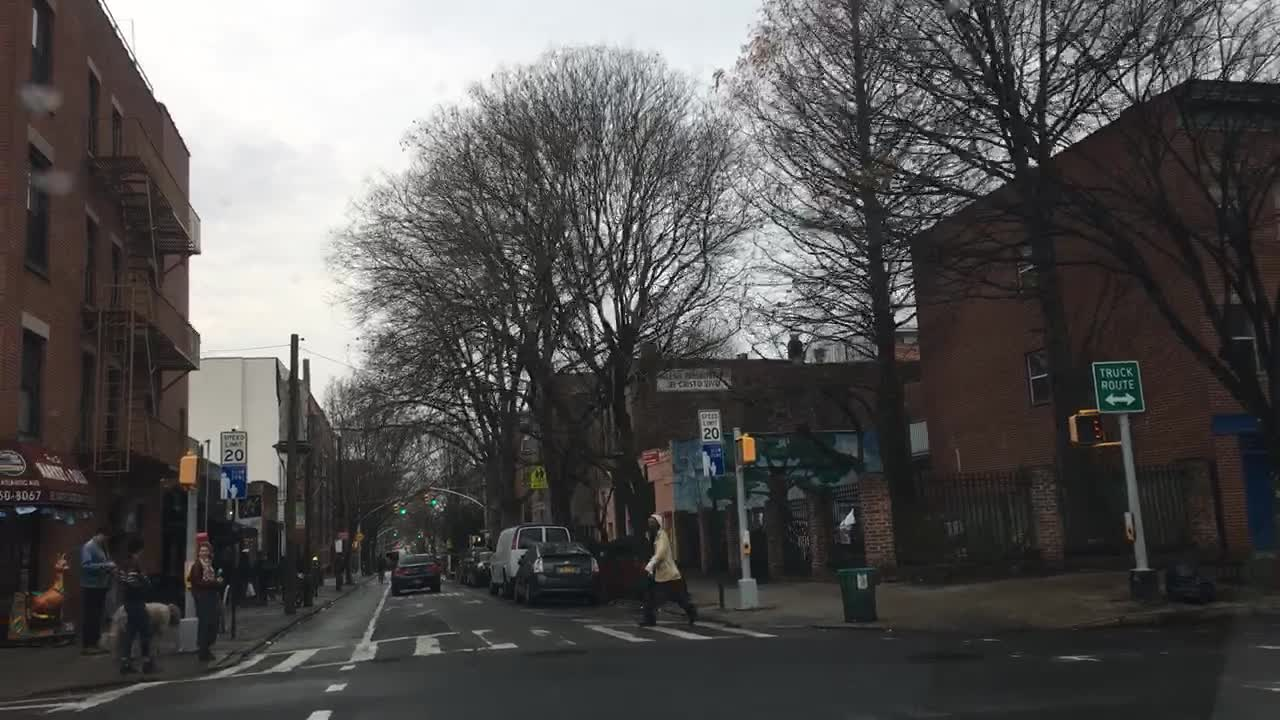car: (486, 518, 573, 600), (512, 540, 603, 608), (390, 551, 444, 597), (453, 544, 492, 587)
person: (635, 511, 700, 627), (115, 534, 158, 674), (77, 526, 121, 656), (187, 540, 226, 661), (373, 553, 386, 583)
traffic light: (1061, 408, 1124, 448), (732, 428, 759, 466), (422, 491, 437, 505), (394, 501, 405, 515)
traffic sign: (1088, 357, 1144, 414), (219, 429, 249, 466), (219, 464, 246, 502), (696, 407, 723, 443), (700, 444, 727, 478), (1212, 415, 1265, 432), (179, 455, 200, 484), (530, 465, 548, 489)
